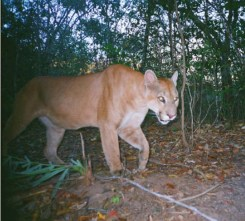OncaParda: (9, 61, 183, 177)
